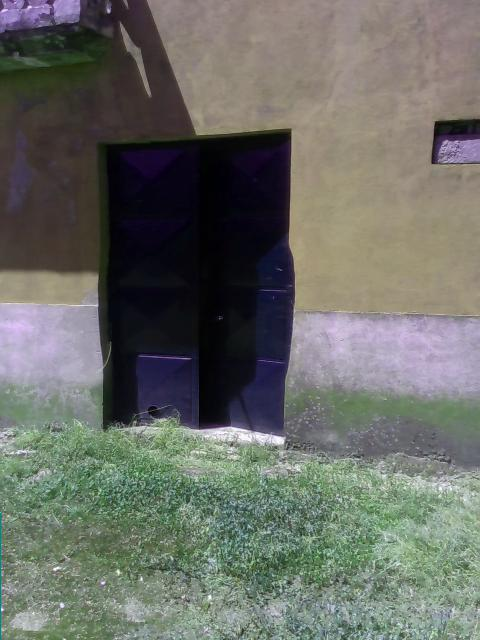closed_door: (97, 130, 290, 450)
